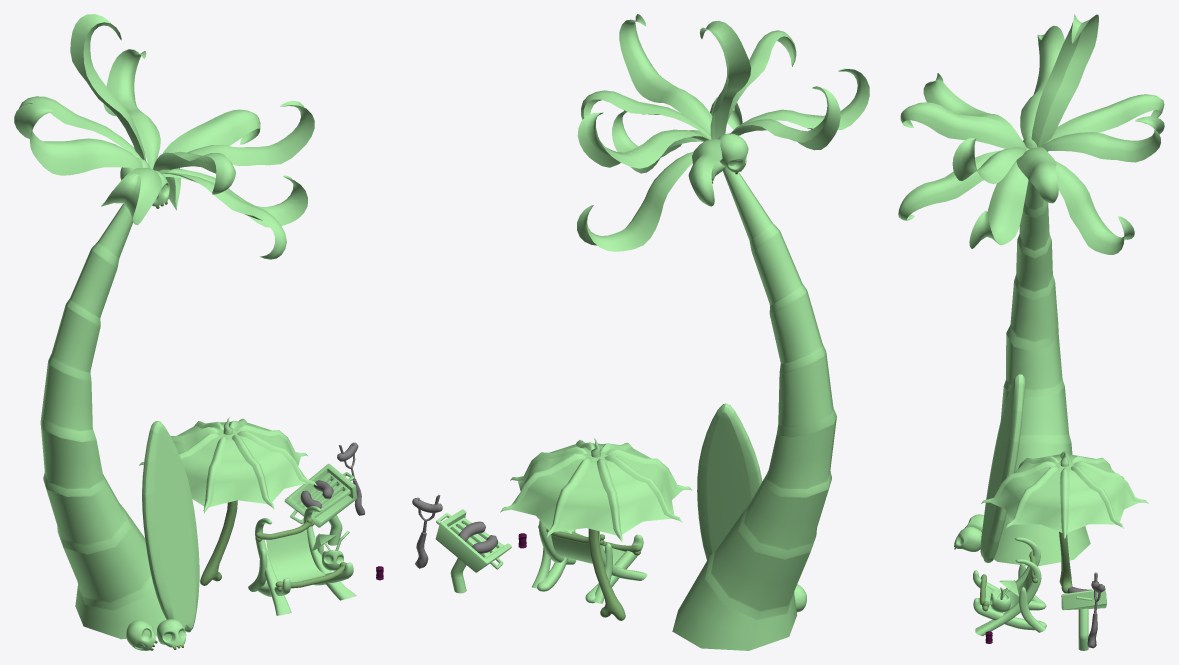
File: BeachStaff_HTH.fbx
3 renders of one model, left to right at view 1: azimuth 30°, elevation 25°; view 2: azimuth 150°, elevation 25°; view 3: azimuth 270°, elevation 25°, orthographic. The views are drawn at different scales.
Parts seen in each view (by area): view 1: PalmHTH002, Umbrella018, Surfe, BeachChear, Barbeque, SkullCoco007, SkullCoco, SkullCoctail; view 2: PalmHTH002, Umbrella018, Surfe, BeachChear, Barbeque, SkullCoco009; view 3: PalmHTH002, Umbrella018, Surfe, BeachChear, Barbeque, SkullCoctail, SkullCoco, stadium_snow_fork.
Part boxes in pixels (x1=…): PalmHTH002: x1=14, y1=14, x2=314, y2=639; Umbrella018: x1=139, y1=417, x2=317, y2=585; Surfe: x1=142, y1=421, x2=199, y2=632; BeachChear: x1=248, y1=506, x2=356, y2=615; Barbeque: x1=284, y1=463, x2=357, y2=545; SkullCoco007: x1=126, y1=620, x2=157, y2=650; SkullCoco: x1=157, y1=619, x2=186, y2=649; SkullCoctail: x1=312, y1=531, x2=349, y2=570; PalmHTH002: x1=577, y1=14, x2=869, y2=650; Umbrella018: x1=500, y1=438, x2=692, y2=620; Surfe: x1=697, y1=403, x2=762, y2=560; BeachChear: x1=532, y1=520, x2=647, y2=603; Barbeque: x1=435, y1=509, x2=511, y2=593; SkullCoco009: x1=718, y1=133, x2=748, y2=174; PalmHTH002: x1=898, y1=14, x2=1164, y2=566; Umbrella018: x1=981, y1=451, x2=1148, y2=593; Surfe: x1=980, y1=374, x2=1025, y2=562; BeachChear: x1=973, y1=537, x2=1046, y2=635; Barbeque: x1=1061, y1=590, x2=1106, y2=650; SkullCoctail: x1=990, y1=580, x2=1019, y2=612; SkullCoco: x1=954, y1=526, x2=981, y2=551; stadium_snow_fork: x1=1087, y1=572, x2=1102, y2=648.
Bounding box in the file's own units: 6.42 × 9.82 × 4.45.
